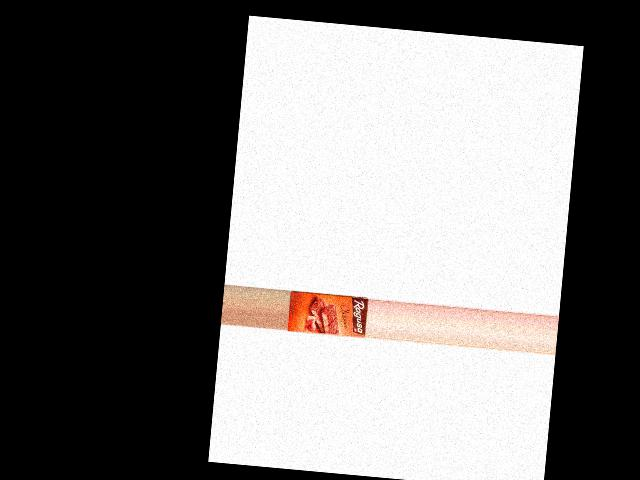chocolate: (286, 288, 367, 342)
